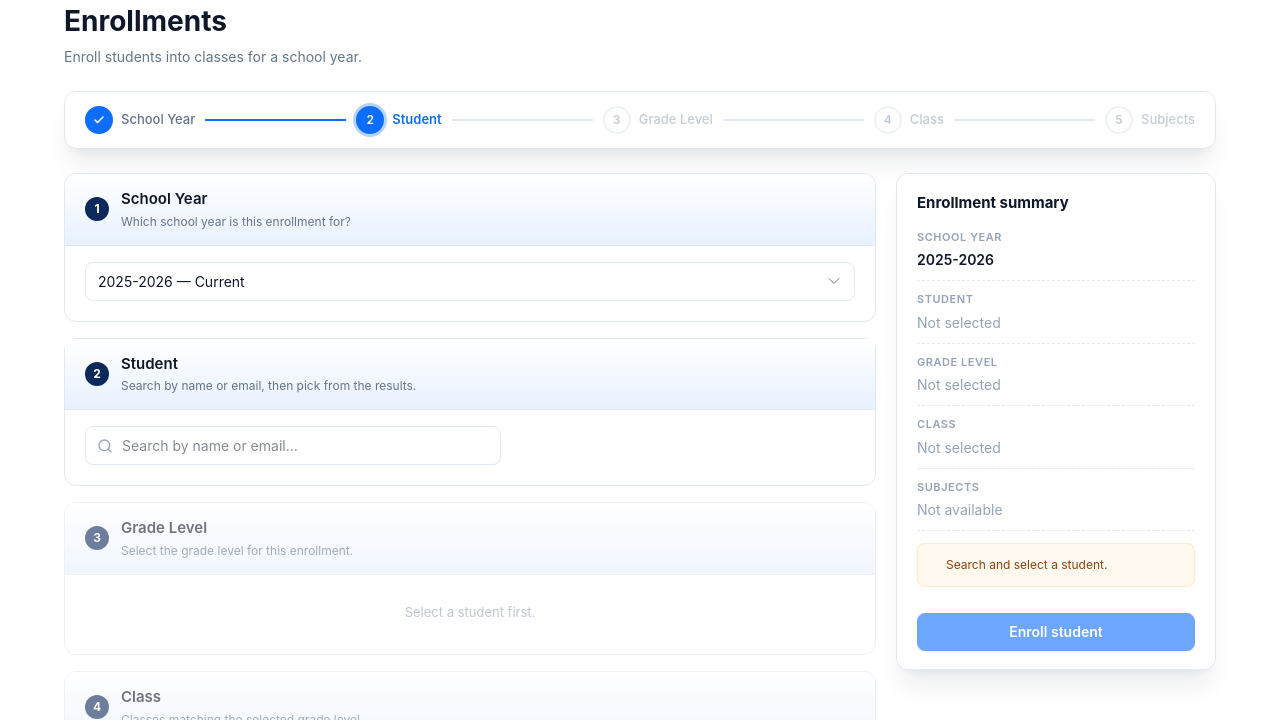
Test: ManageEnrollments page › renders an empty roster for a class with no enrollments
Expected: the heading "School Year" is shown, top-left (121, 189), bottom-right (208, 208)
Type "Alice" into the field with placeholder "Search by name or email…" at [293, 446], box top-left (85, 426), bottom-right (501, 465)
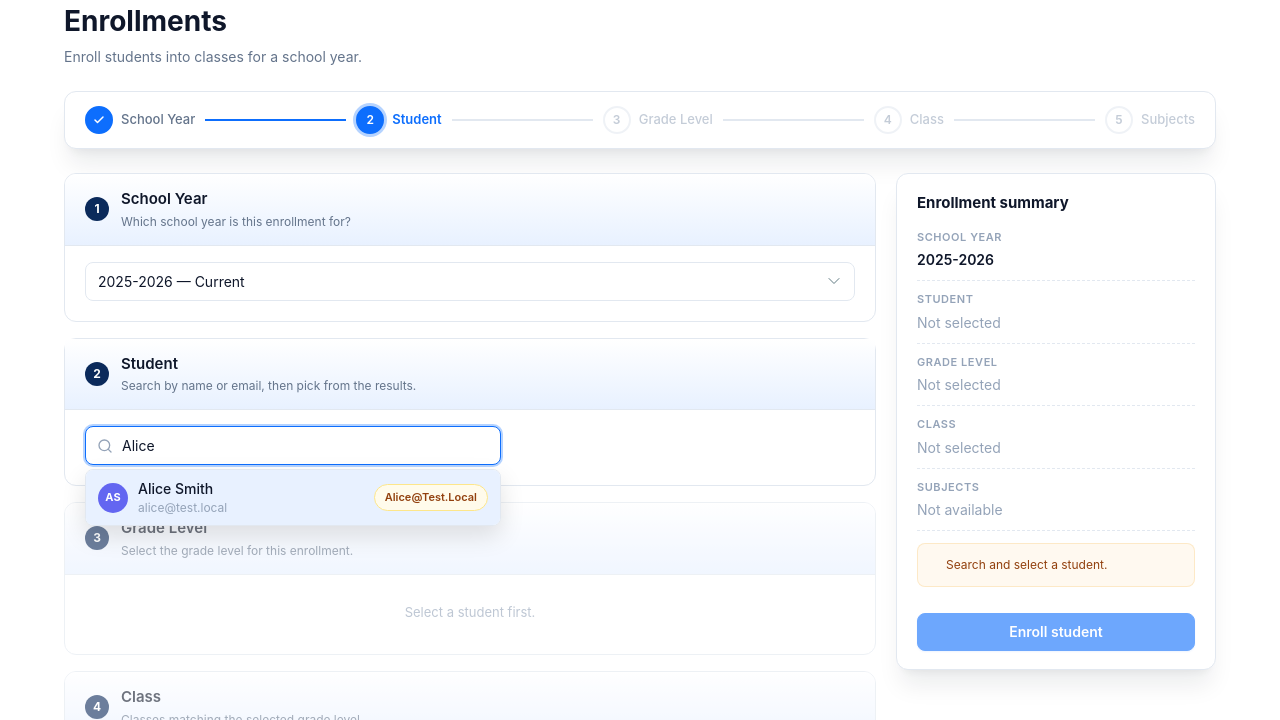
Click the text "Alice Smith" at [176, 488], box top-left (138, 480), bottom-right (213, 497)
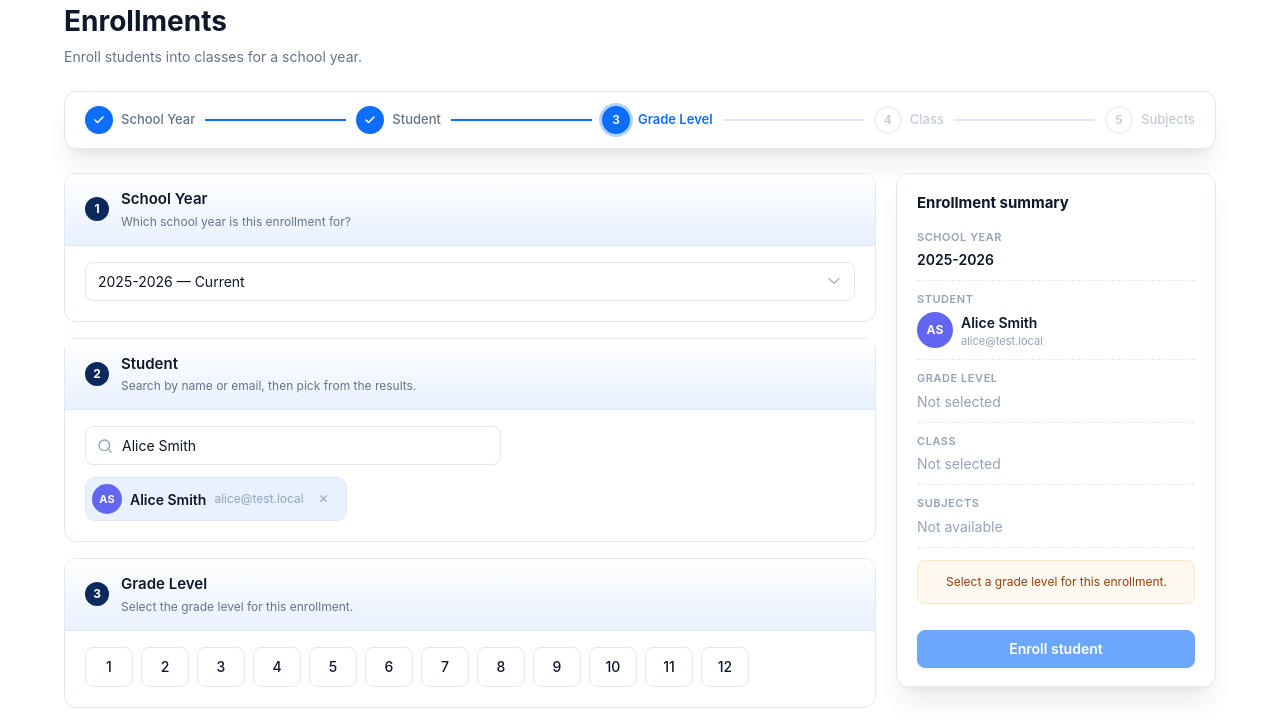
Click the button "1" at [109, 666], box top-left (85, 646), bottom-right (133, 686)
(page scrolled)
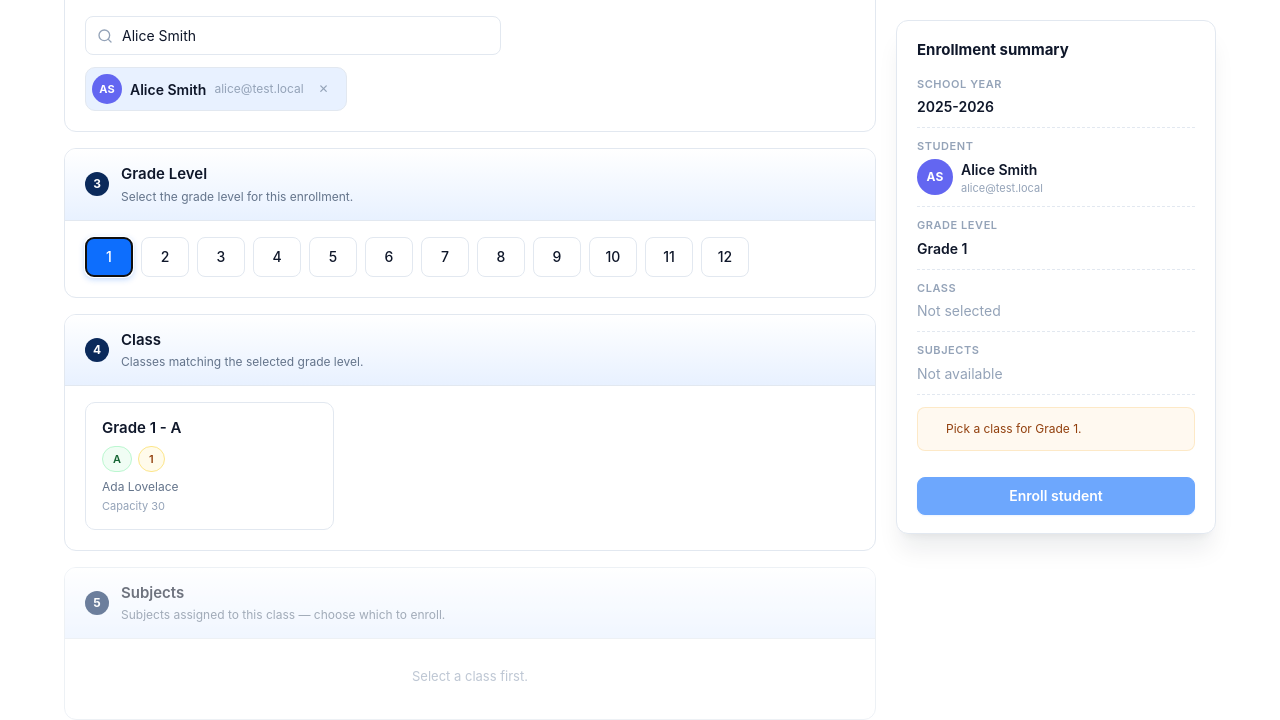
Click the button "Grade 1 - A A 1 Ada Lovelace Capacity 30" at [209, 466], box top-left (85, 402), bottom-right (334, 530)
(page scrolled)
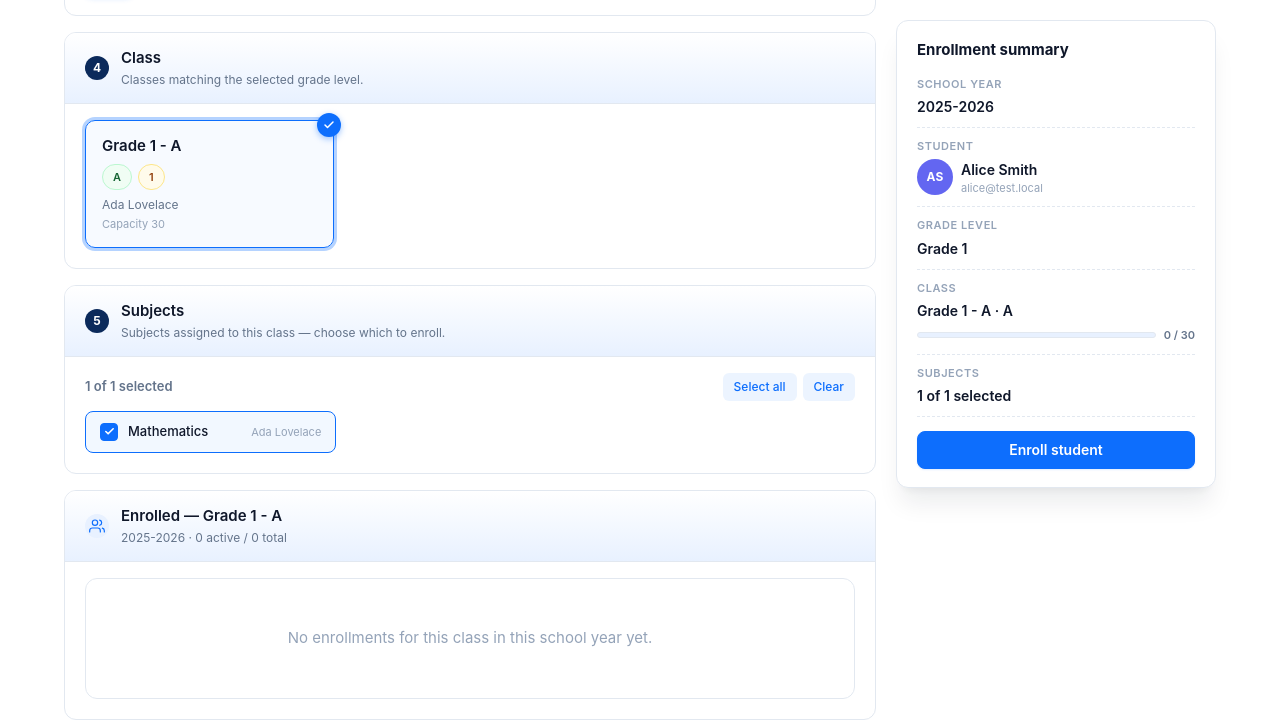
Expected: the checkbox is checked, top-left (85, 411), bottom-right (336, 452)
Expected: the text "No enrollments for this class in this school year yet." is shown, top-left (85, 578), bottom-right (855, 698)
